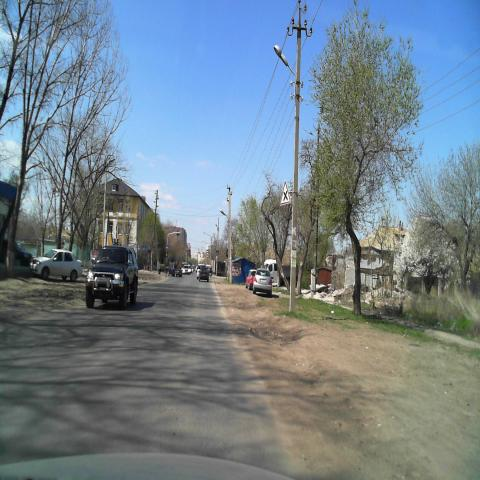1_6: (280, 179, 290, 206)
